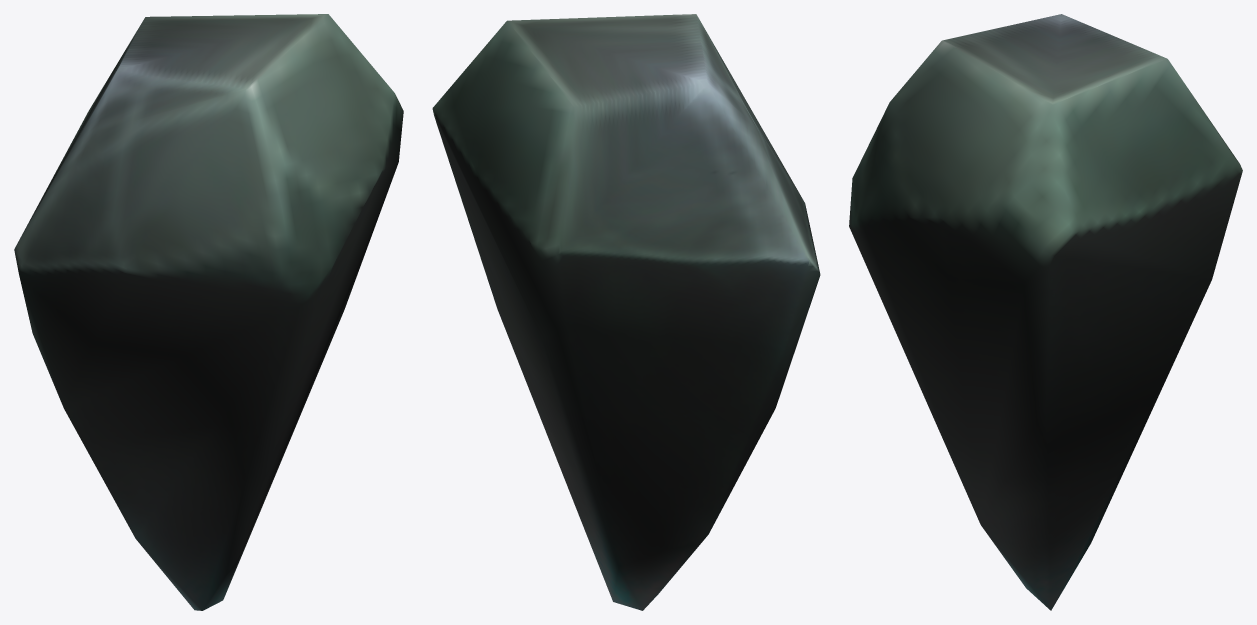
The model's file is SM_Gem_BlackQuartz_Piece_001.fbx.
3 views of the same model, side by side, from view 1: azimuth 30°, elevation 25°; view 2: azimuth 150°, elevation 25°; view 3: azimuth 270°, elevation 25° (orthographic).
Visible parts, largest first — view 1: SM_Gem_BlackQuartz_Piece_001; view 2: SM_Gem_BlackQuartz_Piece_001; view 3: SM_Gem_BlackQuartz_Piece_001.
Part boxes in pixels (x1,y1,x2,y2): SM_Gem_BlackQuartz_Piece_001: (14,14,403,610); SM_Gem_BlackQuartz_Piece_001: (432,14,820,610); SM_Gem_BlackQuartz_Piece_001: (849,14,1242,610).
Bounding box in the file's own units: 12.76 × 17.72 × 11.3.
